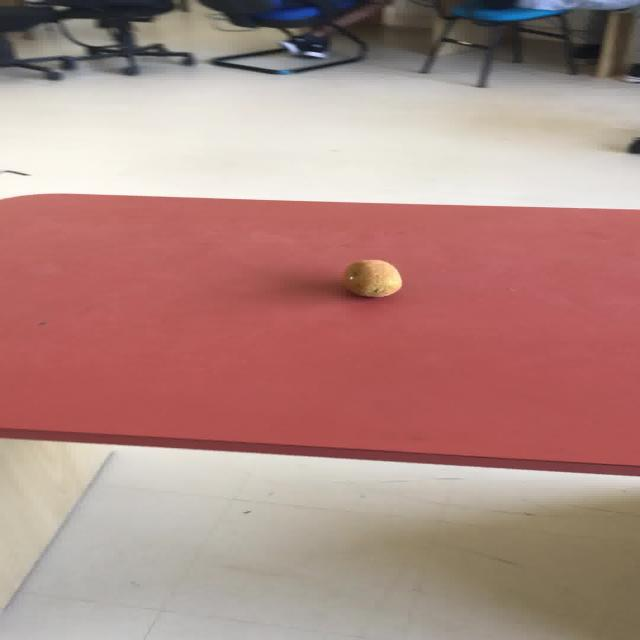kiwi: (343, 258, 401, 298)
